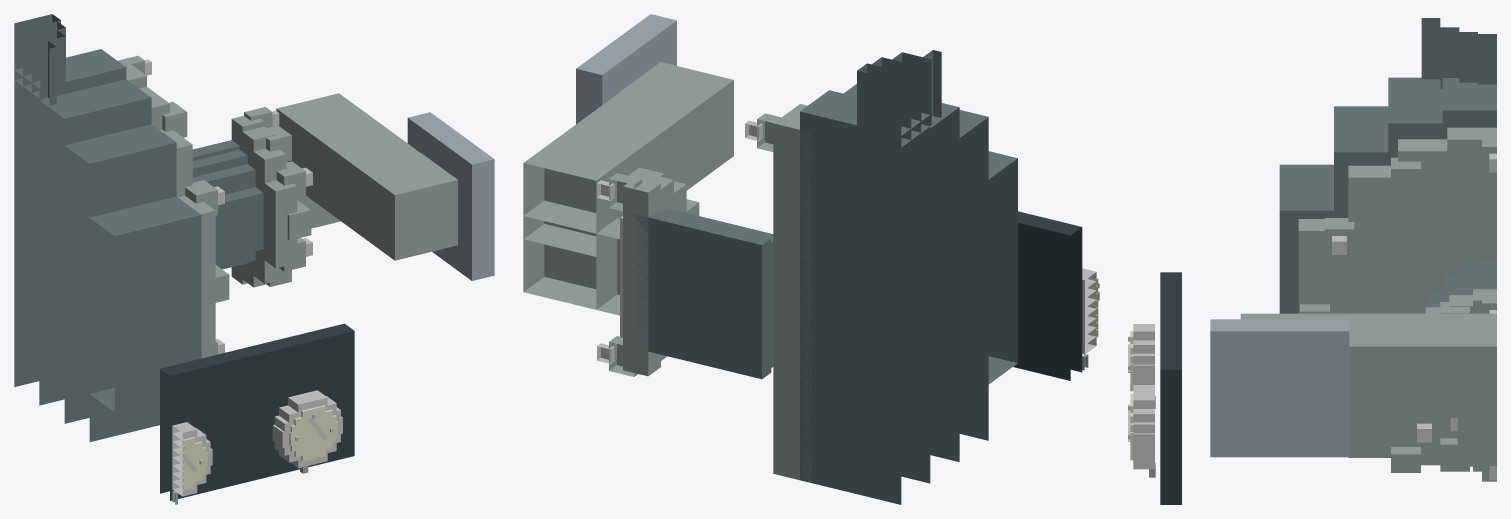
Rendered from cell_11.obj.
The picture shows the model from 3 angles, left to right: view 1: azimuth 30°, elevation 25°; view 2: azimuth 150°, elevation 25°; view 3: azimuth 270°, elevation 25°; orthographic projection. The views are drawn at different scales.
Size of the model in its own units: 1 by 1 by 0.8494.
